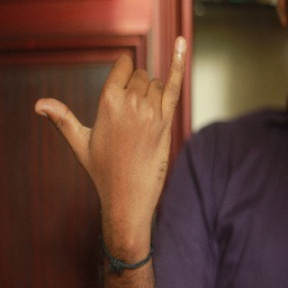J: (34, 30, 194, 220)
